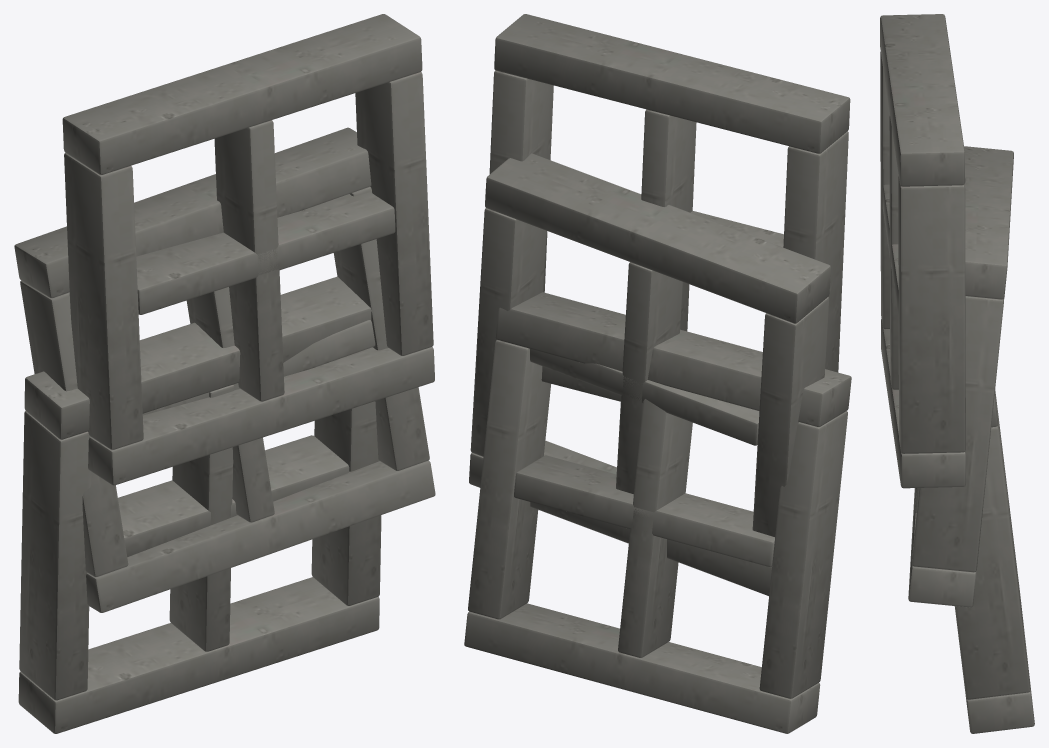
File: ALV-CEL-003_anim.glb
3 views of the same model, side by side, from view 1: azimuth 30°, elevation 25°; view 2: azimuth 150°, elevation 25°; view 3: azimuth 270°, elevation 25° (orthographic). The views are drawn at different scales.
Visible parts, largest first — view 1: ALV-CEL-003_anim2, ALV-CEL-003_anim0, ALV-CEL-003_anim1; view 2: ALV-CEL-003_anim0, ALV-CEL-003_anim1, ALV-CEL-003_anim2; view 3: ALV-CEL-003_anim2, ALV-CEL-003_anim1, ALV-CEL-003_anim0.
Part boxes in pixels (box(x1,y1,x2,y2)): ALV-CEL-003_anim2: box(62, 14, 434, 485); ALV-CEL-003_anim0: box(18, 276, 381, 733); ALV-CEL-003_anim1: box(14, 127, 435, 612); ALV-CEL-003_anim0: box(464, 292, 851, 733); ALV-CEL-003_anim1: box(469, 153, 830, 595); ALV-CEL-003_anim2: box(489, 14, 850, 401); ALV-CEL-003_anim2: box(880, 14, 965, 488); ALV-CEL-003_anim1: box(908, 146, 1013, 607); ALV-CEL-003_anim0: box(954, 390, 1034, 733).
Size of the model in its own units: 0.439 by 0.71 by 0.166.
1 material, 1 textured.
